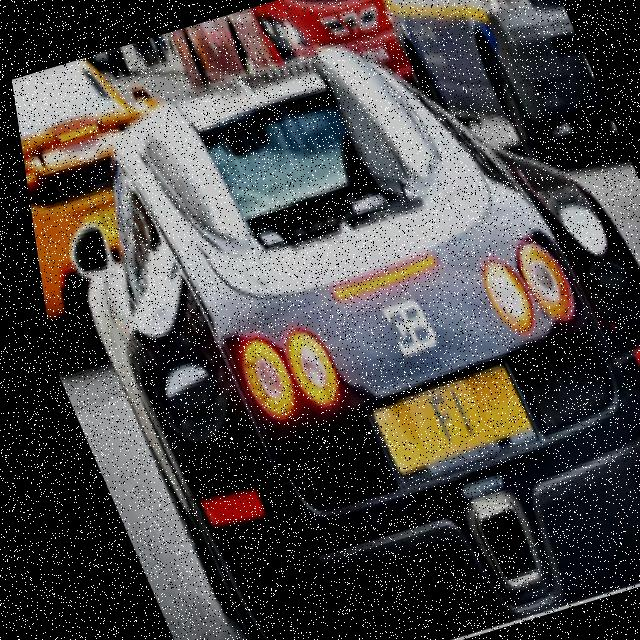license_plate: (348, 363, 524, 467)
